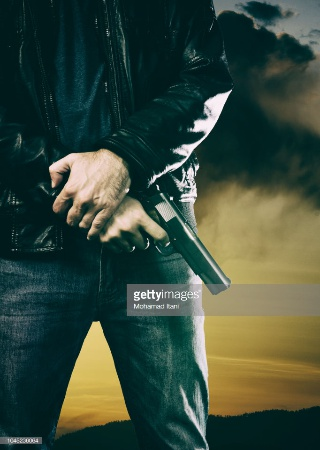handgun: (135, 177, 234, 293)
